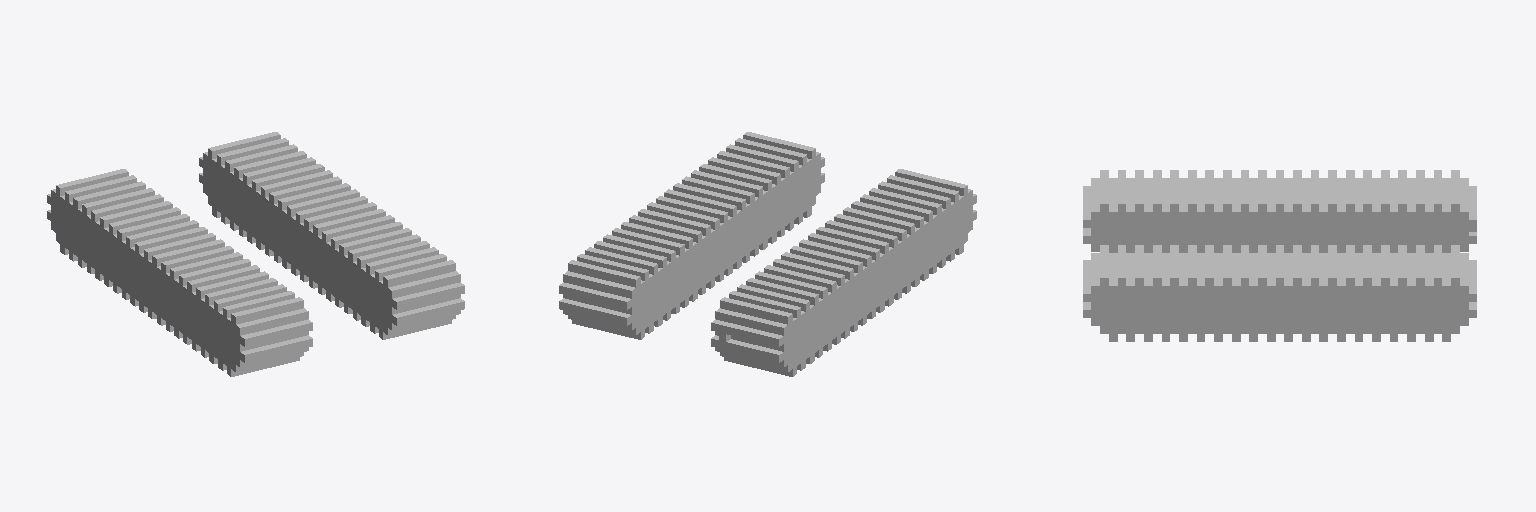
File: Tankwheels 2.obj
3 views of the same model, side by side, from view 1: azimuth 30°, elevation 25°; view 2: azimuth 150°, elevation 25°; view 3: azimuth 270°, elevation 25° (orthographic).
Bounding box in the file's own units: 29 × 8 × 45.